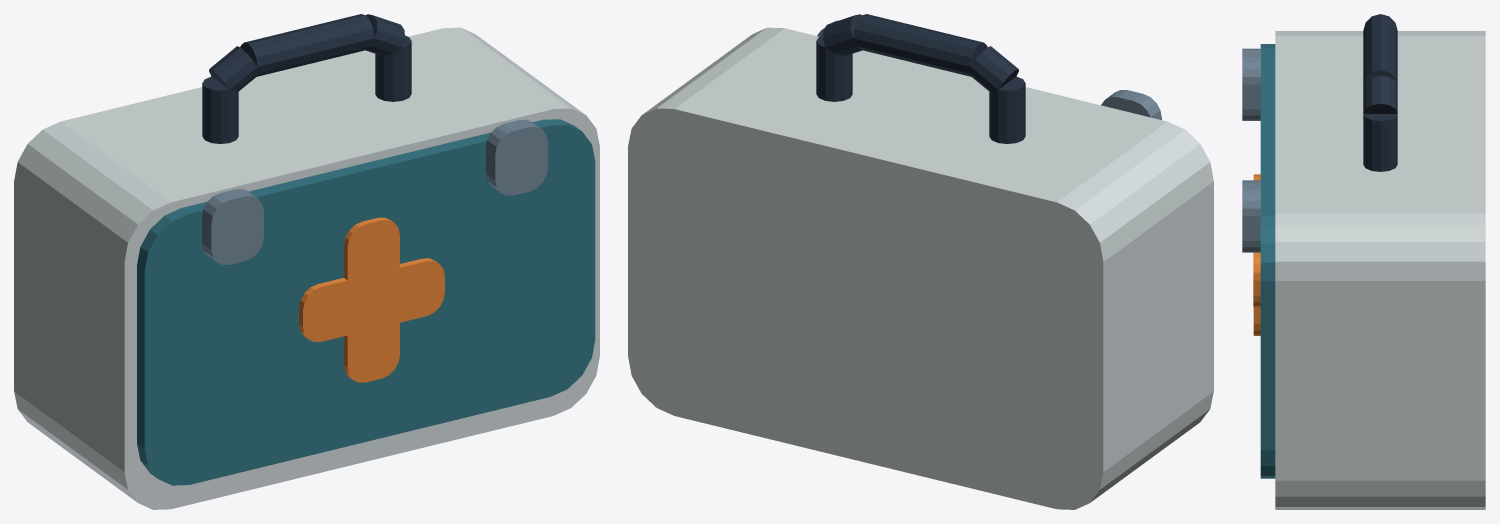
File: firstaid.glb
The picture shows the model from 3 angles, left to right: view 1: azimuth 30°, elevation 25°; view 2: azimuth 150°, elevation 25°; view 3: azimuth 270°, elevation 25°; orthographic projection. The views are drawn at different scales.
Parts seen in each view (by area): view 1: lid, case, cross horizontal, cross vertical, carry handle2, closure 0.46, closure -0.46, carry handle0, carry handle4, carry handle1, carry handle3; view 2: case, carry handle2, carry handle0, carry handle4, carry handle1, carry handle3, closure -0.46; view 3: case, lid, carry handle2, carry handle4, closure -0.46, closure 0.46, carry handle3, cross horizontal, cross vertical.
Boxes of the visible parts, x1=… form: lid: x1=137, y1=119, x2=595, y2=485; case: x1=14, y1=27, x2=599, y2=509; cross horizontal: x1=299, y1=258, x2=444, y2=341; cross vertical: x1=344, y1=217, x2=399, y2=382; carry handle2: x1=240, y1=14, x2=374, y2=76; closure 0.46: x1=486, y1=119, x2=547, y2=195; closure -0.46: x1=202, y1=189, x2=263, y2=264; carry handle0: x1=202, y1=76, x2=238, y2=143; carry handle4: x1=375, y1=35, x2=411, y2=101; carry handle1: x1=209, y1=46, x2=258, y2=91; carry handle3: x1=366, y1=14, x2=404, y2=55; case: x1=628, y1=27, x2=1213, y2=509; carry handle2: x1=853, y1=14, x2=987, y2=76; carry handle0: x1=989, y1=76, x2=1025, y2=143; carry handle4: x1=816, y1=35, x2=852, y2=101; carry handle1: x1=969, y1=46, x2=1018, y2=91; carry handle3: x1=823, y1=14, x2=861, y2=55; closure -0.46: x1=1101, y1=90, x2=1161, y2=119; case: x1=1275, y1=31, x2=1485, y2=509; lid: x1=1260, y1=44, x2=1275, y2=478; carry handle2: x1=1363, y1=15, x2=1397, y2=84; carry handle4: x1=1363, y1=114, x2=1397, y2=171; closure -0.46: x1=1242, y1=48, x2=1260, y2=120; closure 0.46: x1=1242, y1=180, x2=1260, y2=252; carry handle3: x1=1363, y1=75, x2=1397, y2=113; cross horizontal: x1=1253, y1=252, x2=1260, y2=307; cross vertical: x1=1253, y1=174, x2=1260, y2=335.
Bounding box in the file's own units: 1.54 × 1.22 × 0.7175.
